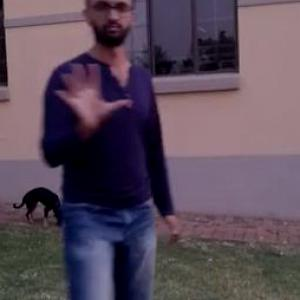follow_hand: (49, 57, 134, 137)
